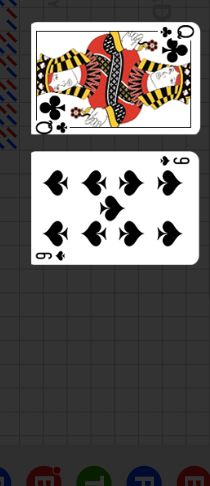9S: (34, 249, 67, 262)
QC: (31, 89, 78, 133), (152, 22, 198, 66)
